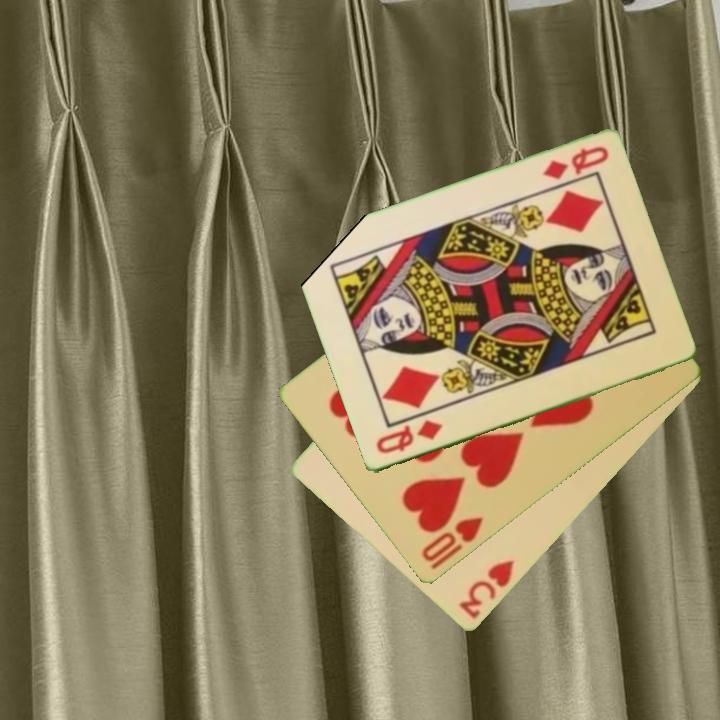10h: (418, 513, 487, 573)
3h: (455, 557, 518, 622)
Qd: (372, 416, 445, 457), (539, 143, 612, 184)
